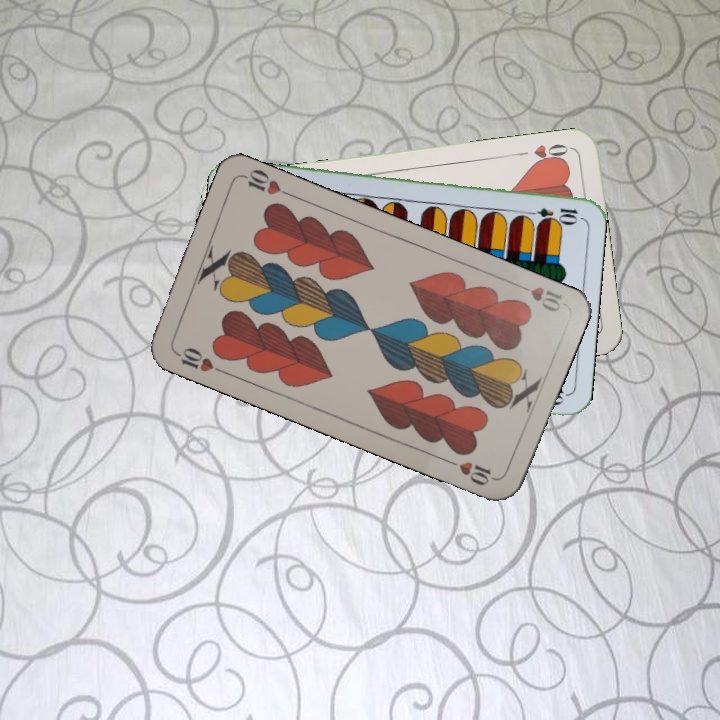E10: (521, 203, 580, 223)
H10: (510, 279, 566, 315), (170, 343, 227, 376)
HO: (513, 140, 572, 168)
